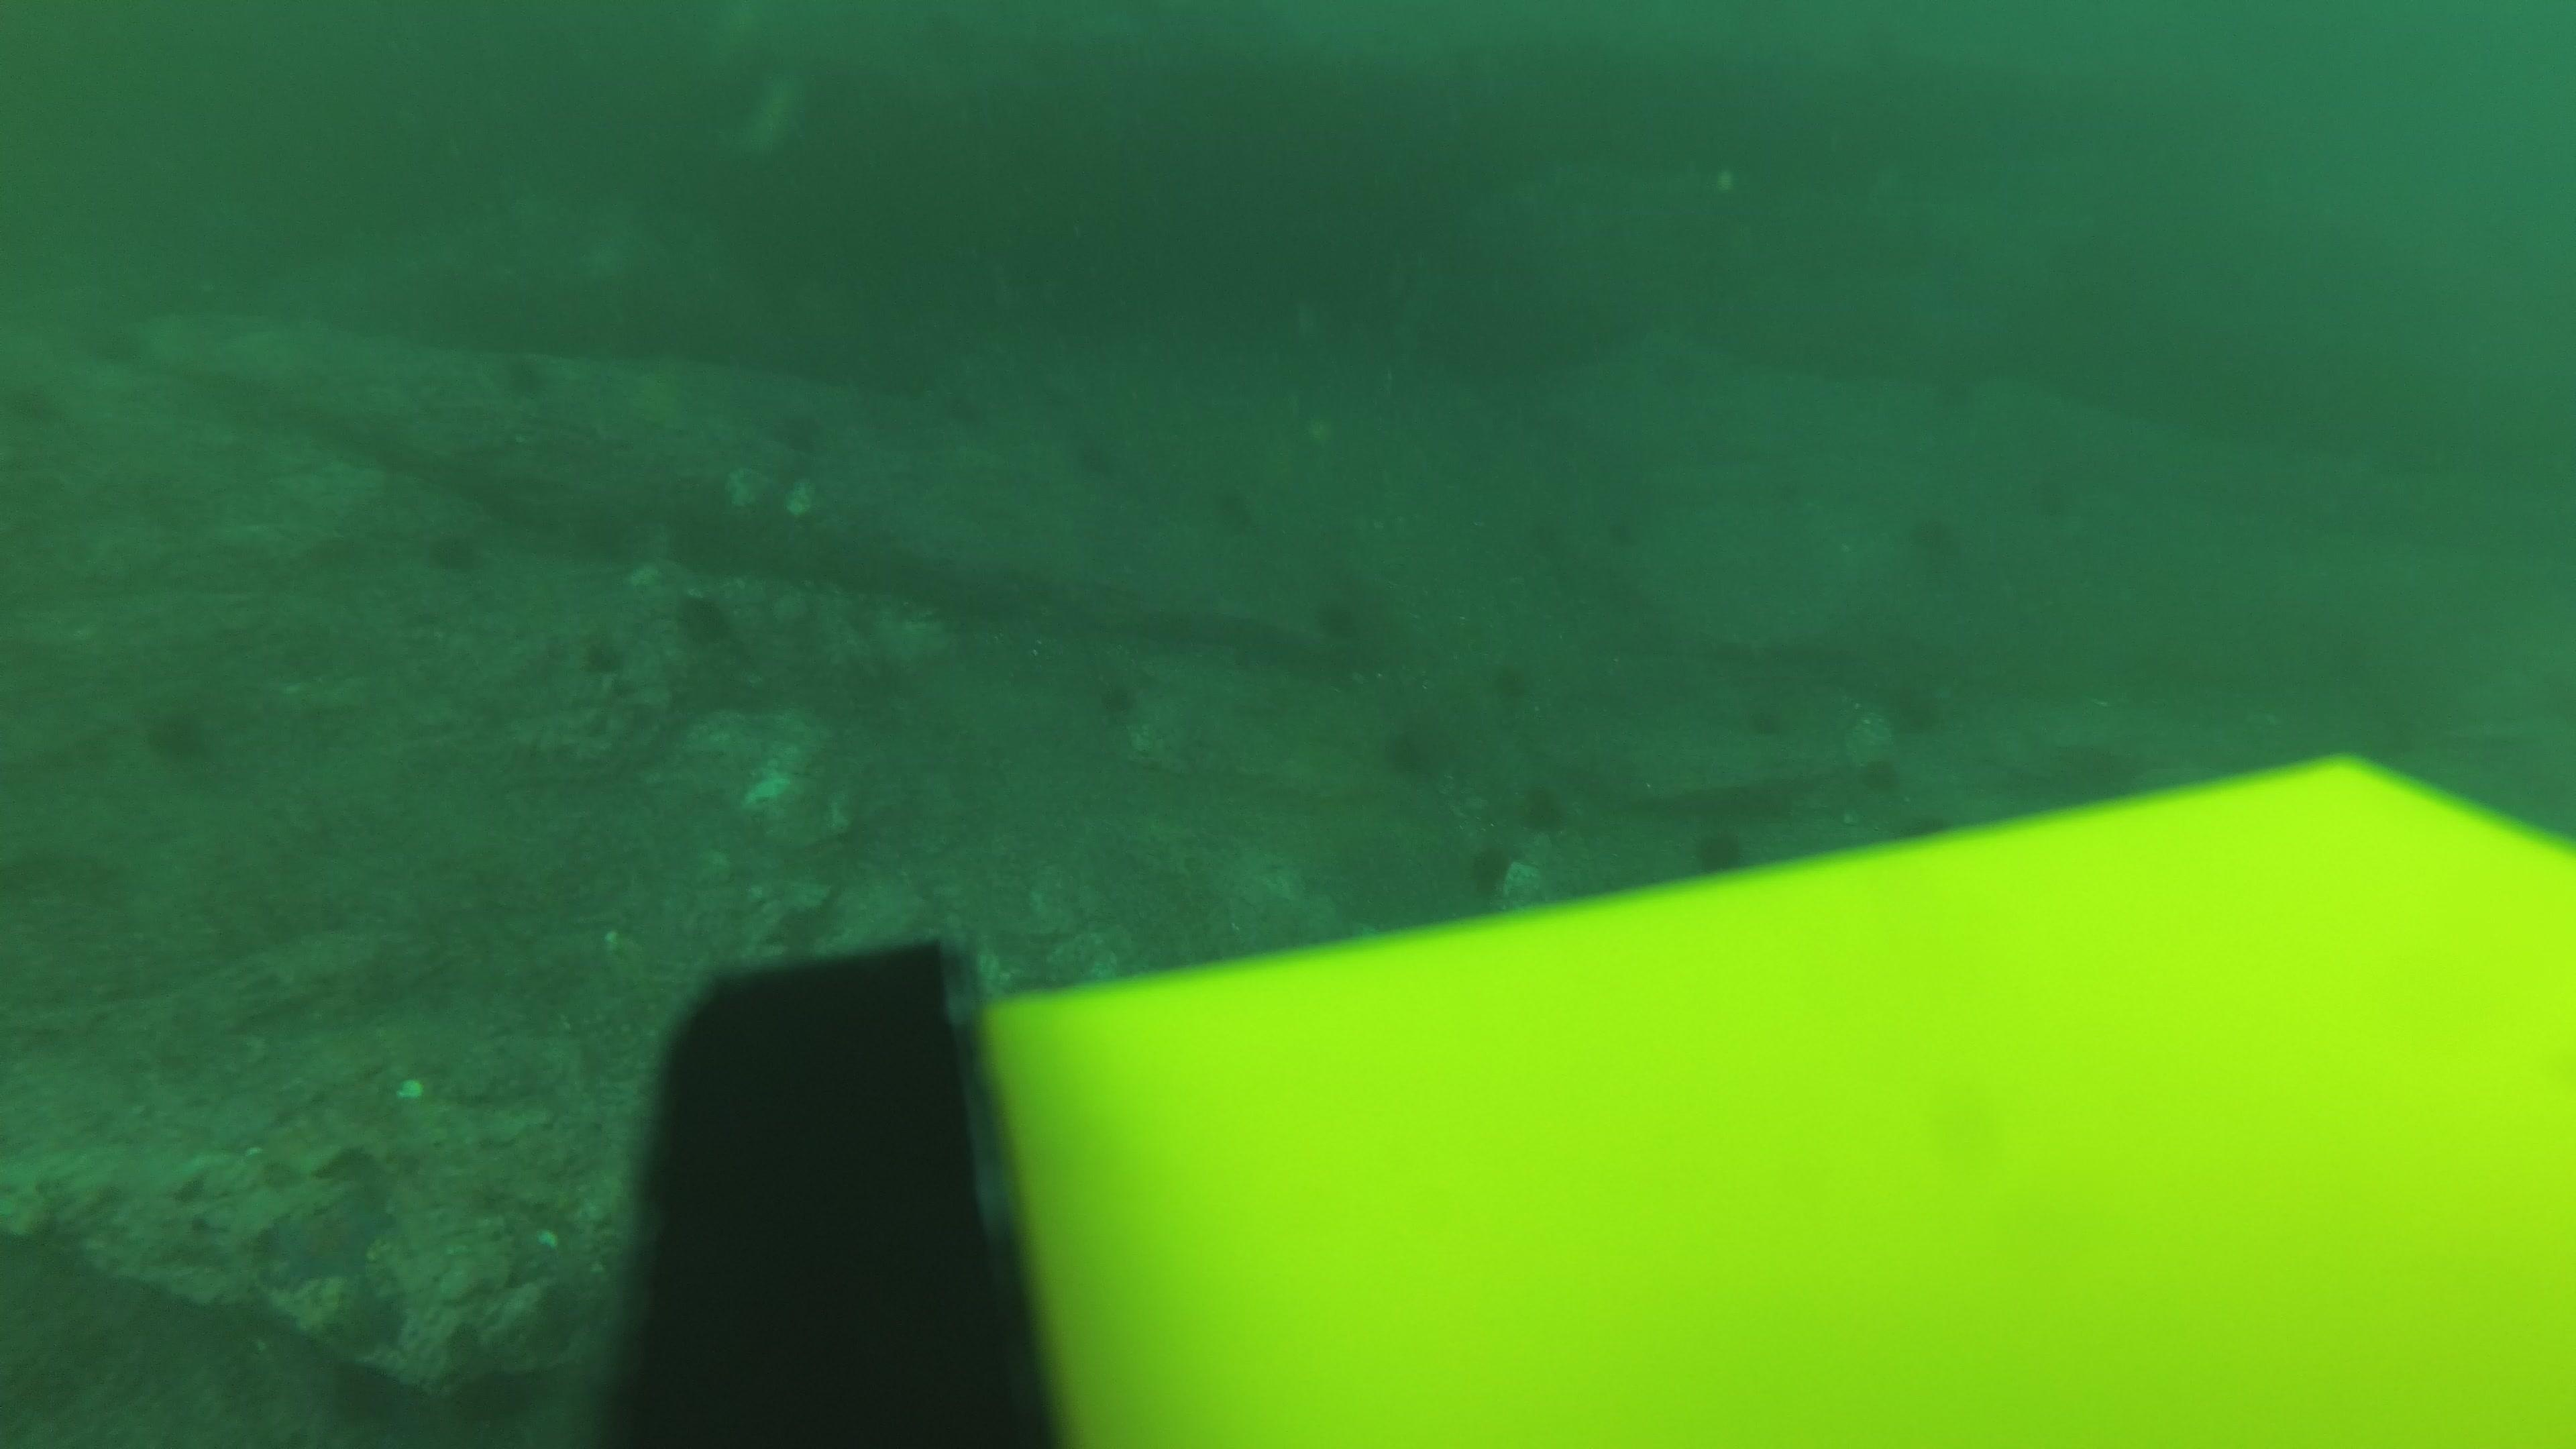echinus: (318, 1357, 418, 1438), (446, 1359, 541, 1438), (136, 694, 226, 775), (1897, 506, 1971, 577), (1877, 672, 1953, 741), (1376, 717, 1447, 786), (1683, 817, 1759, 881), (4, 377, 80, 441), (669, 586, 740, 653), (418, 518, 492, 582), (87, 320, 161, 384), (766, 403, 833, 464), (1086, 667, 1148, 729), (1514, 777, 1575, 839), (1463, 837, 1522, 901), (1307, 584, 1366, 648), (1849, 736, 1907, 800), (1587, 504, 1645, 568), (1205, 478, 1263, 541), (1060, 430, 1118, 494), (2015, 467, 2074, 531), (1484, 656, 1543, 718), (1743, 690, 1801, 752), (1527, 506, 1585, 568), (1016, 375, 1074, 437), (943, 372, 1001, 433), (1923, 359, 1982, 421), (1654, 331, 1713, 393), (494, 350, 556, 405), (575, 626, 632, 683)
starfish: (258, 1184, 396, 1292)
